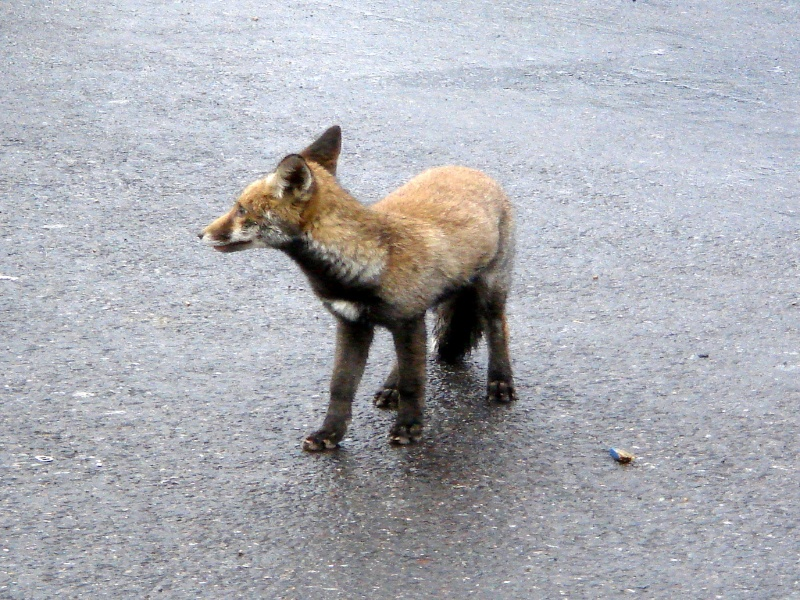fox: (197, 123, 532, 457)
